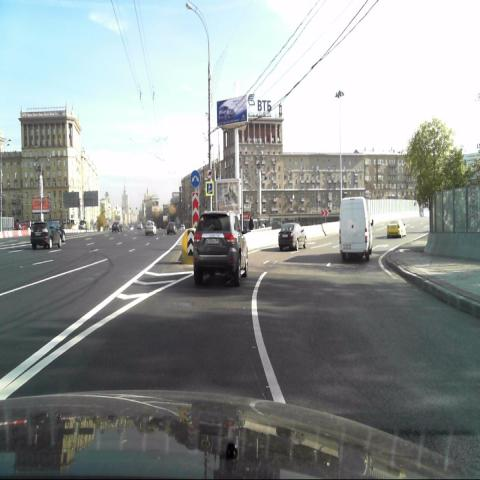4_2_3: (190, 169, 200, 187)
6_6: (205, 180, 213, 195)
